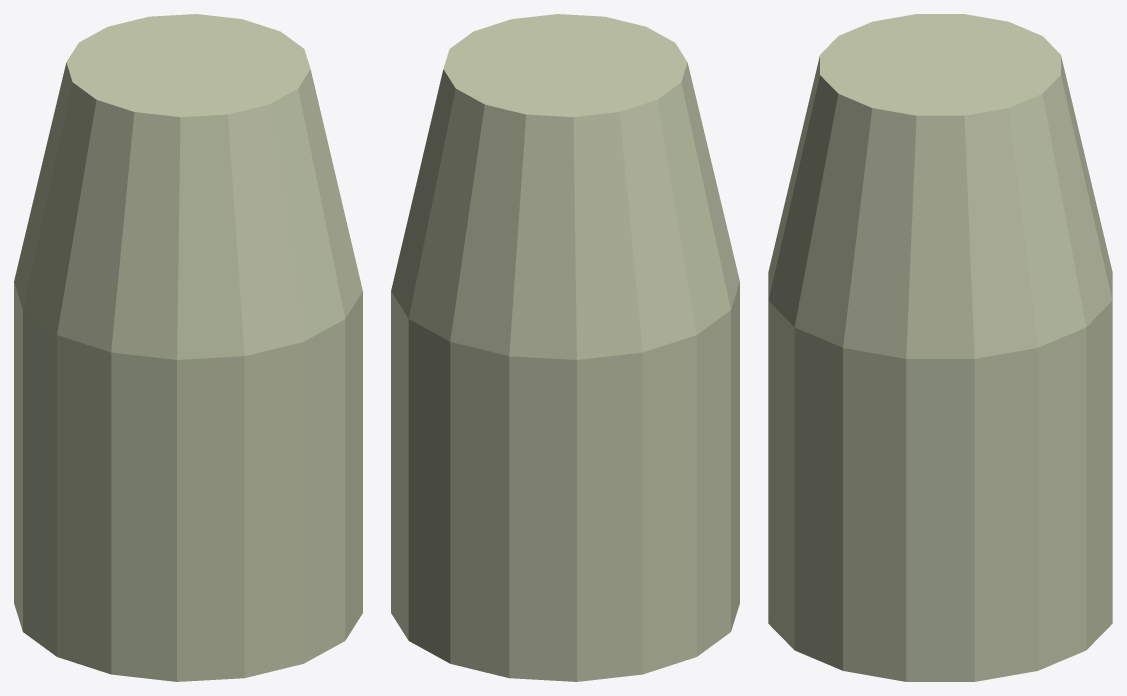
Rendered from Alniyat_Habitation_1_Collider.obj.
The picture shows the model from 3 angles, left to right: view 1: azimuth 30°, elevation 25°; view 2: azimuth 150°, elevation 25°; view 3: azimuth 270°, elevation 25°; orthographic projection.
Visible parts, largest first — view 1: Alniyat_Habitation_1_Collider; view 2: Alniyat_Habitation_1_Collider; view 3: Alniyat_Habitation_1_Collider.
Part boxes in pixels (<box>): Alniyat_Habitation_1_Collider: <box>14,14,362,681</box>; Alniyat_Habitation_1_Collider: <box>391,14,739,681</box>; Alniyat_Habitation_1_Collider: <box>768,14,1112,681</box>.
Size of the model in its own units: 1.25 by 2.18 by 1.25.
